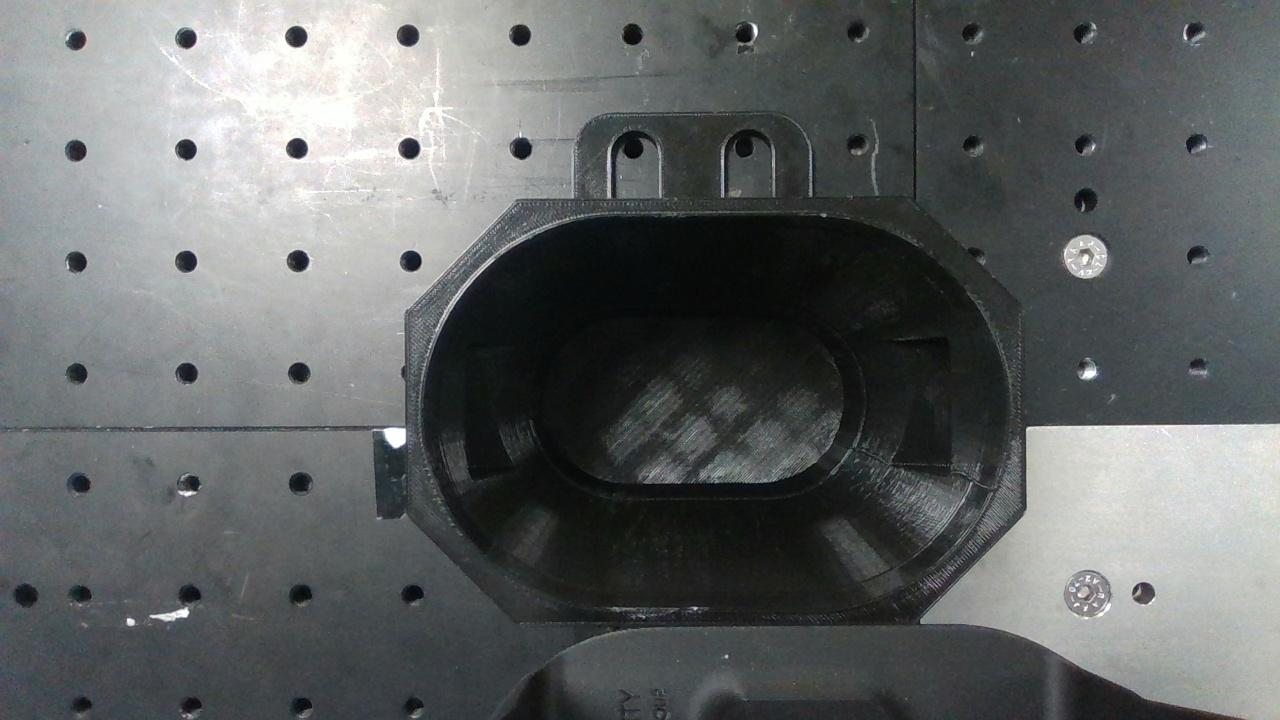small_interface: (406, 193, 1026, 627)
